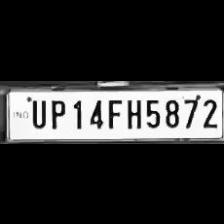1: (67, 94, 85, 130)
2: (198, 95, 218, 129)
4: (84, 94, 104, 130)
5: (142, 95, 160, 129)
7: (180, 94, 198, 128)
8: (160, 94, 180, 128)
F: (104, 95, 122, 129)
H: (122, 95, 142, 129)
P: (46, 96, 66, 128)
U: (26, 96, 46, 128)
